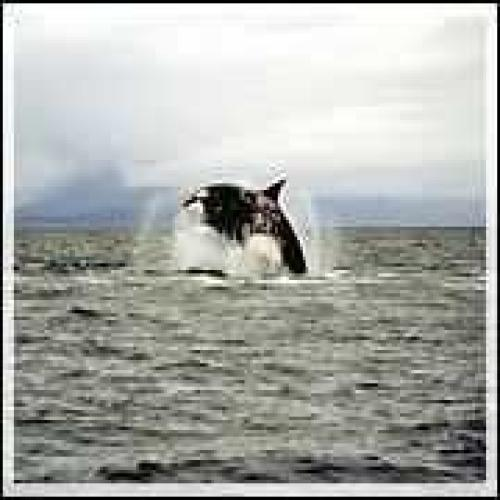killer_whale-endangered: (163, 151, 326, 284)
